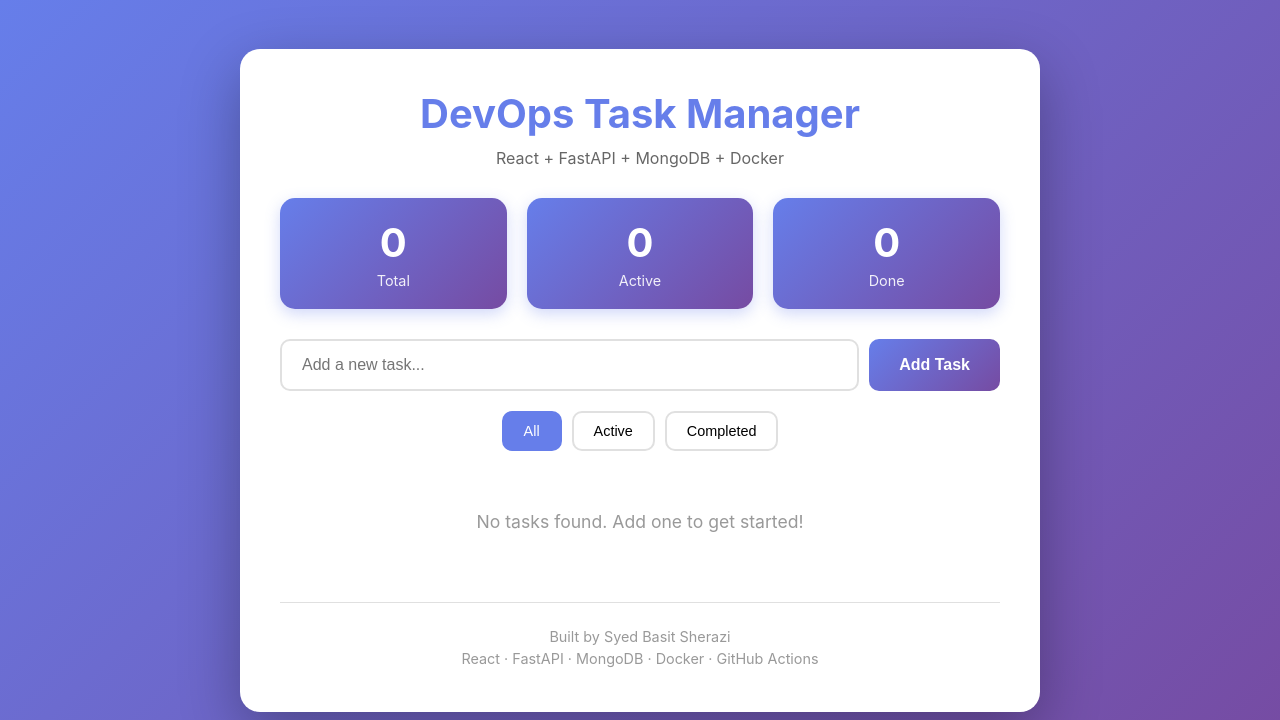
Test case: App › adds a task via the form
expect the text "No tasks found. Add one to get started!" is shown: met, box [476,510,804,532]
Type "New task" into the field with placeholder "Add a new task..." at [570, 364], box [280,338,859,390]
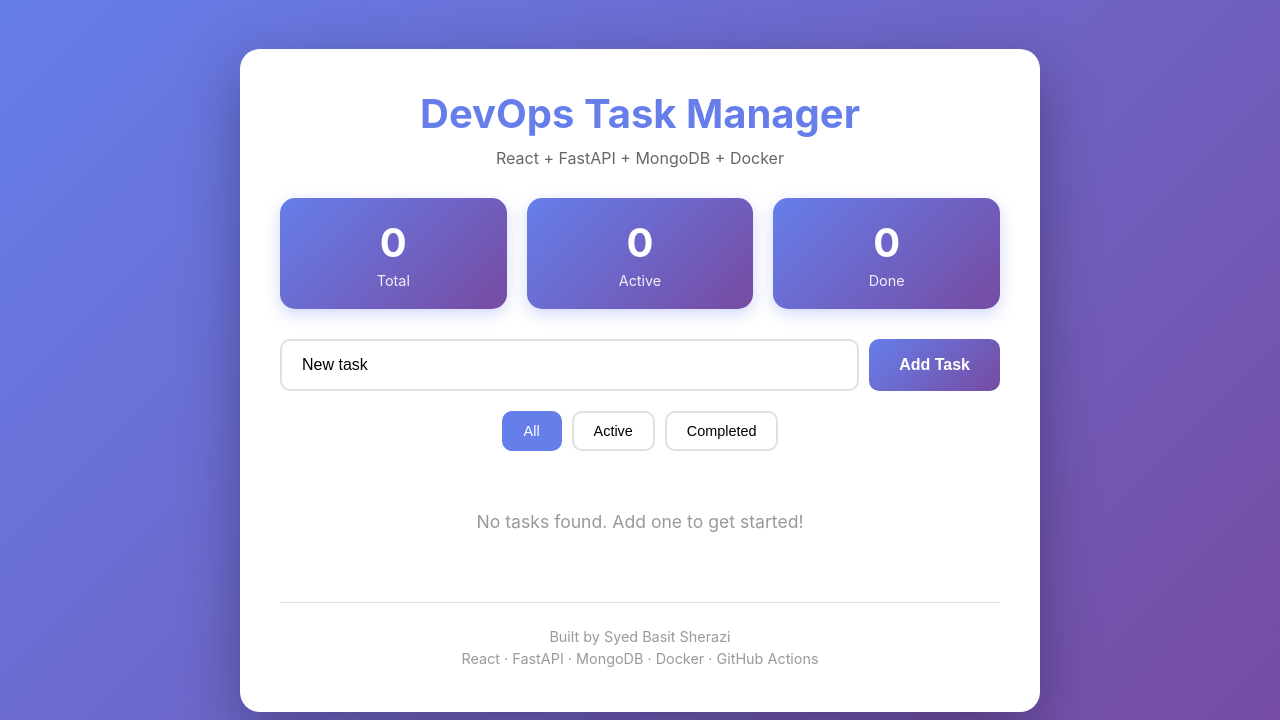
Click the button "Add Task" at [935, 364], box [869,338,1000,390]
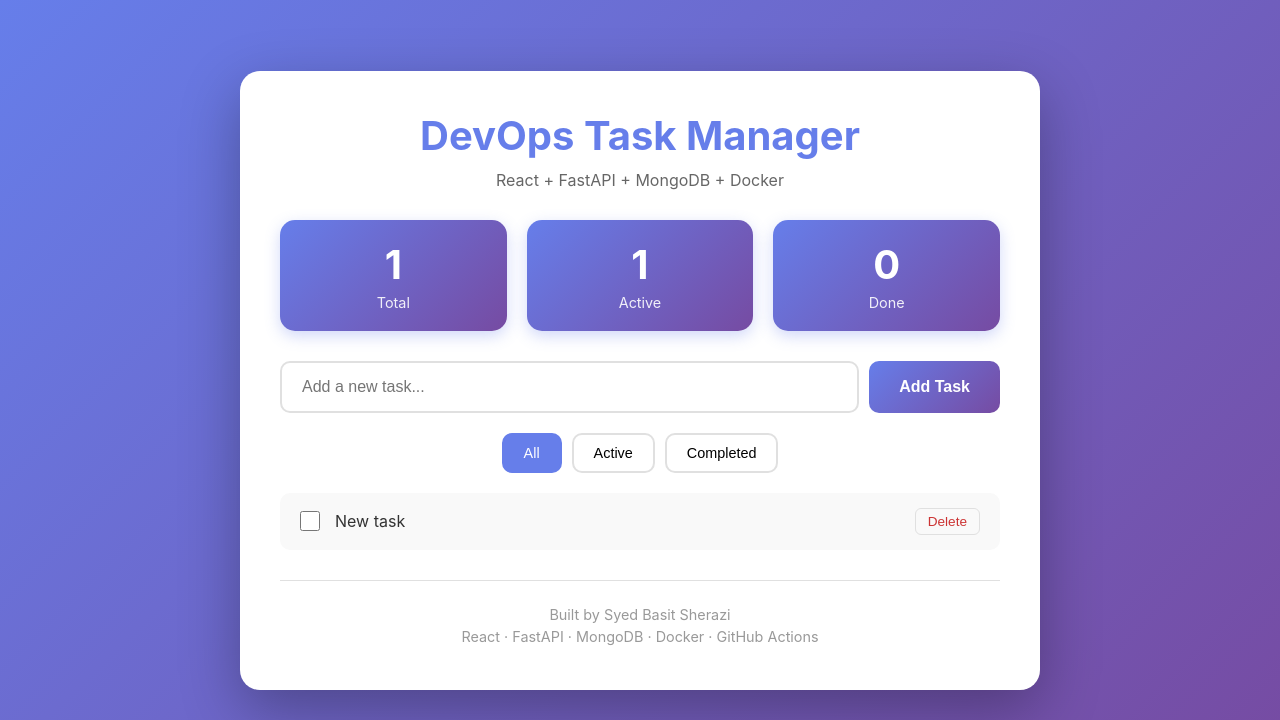
expect the text "New task" is shown: met, box [335,511,405,531]
